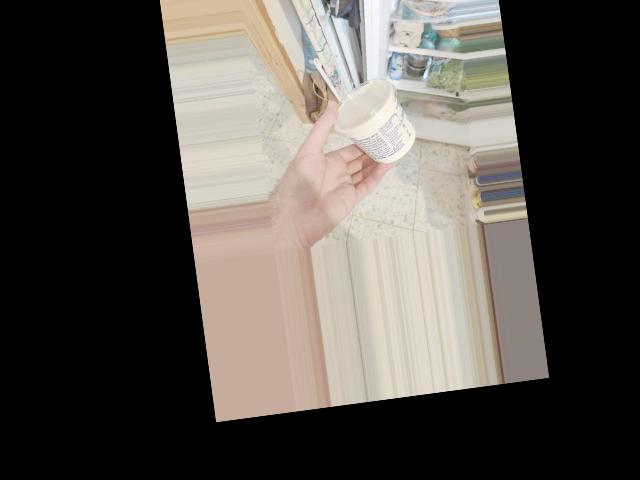cotage: (324, 74, 415, 163)
